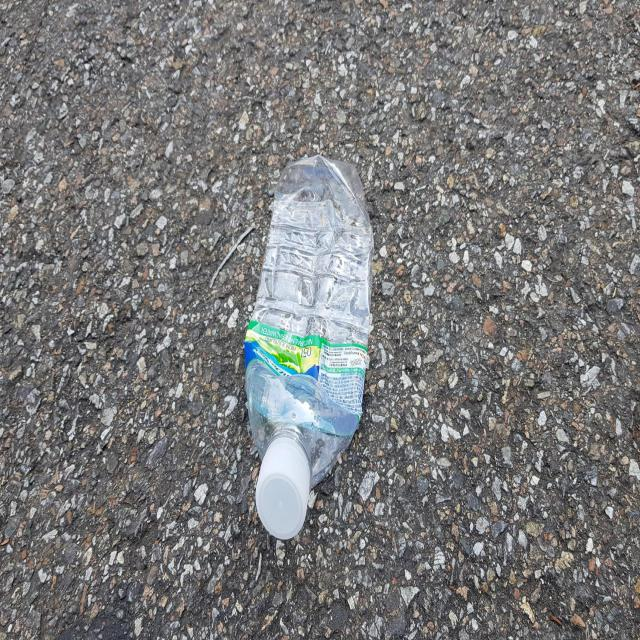plastic: (245, 153, 374, 540)
